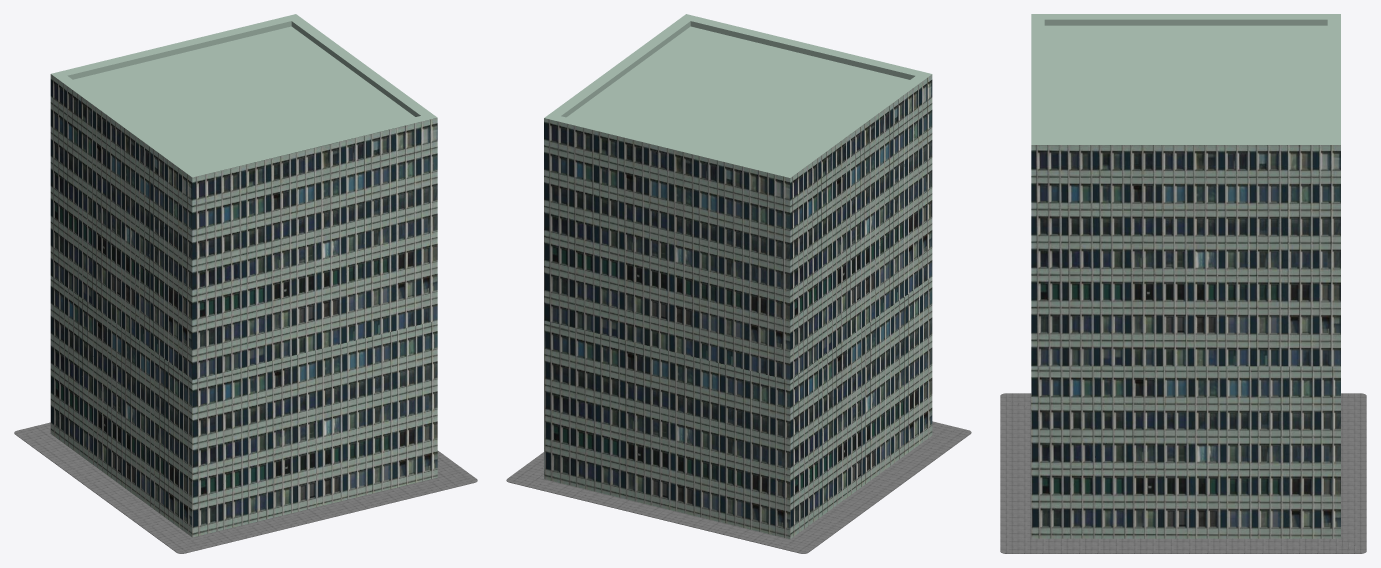
Rendered from Building 2.FBX.
3 renders of one model, left to right at view 1: azimuth 30°, elevation 25°; view 2: azimuth 150°, elevation 25°; view 3: azimuth 270°, elevation 25°, orthographic. The views are drawn at different scales.
Parts seen in each view (by area): view 1: Building 2; view 2: Building 2; view 3: Building 2.
Boxes of the visible parts, <box> form: Building 2: <box>14,14,477,553</box>; Building 2: <box>506,14,971,553</box>; Building 2: <box>1000,14,1366,553</box>.
Size of the model in its own units: 42846 by 49120 by 41408.
Materials: 2 (2 with a texture image).
